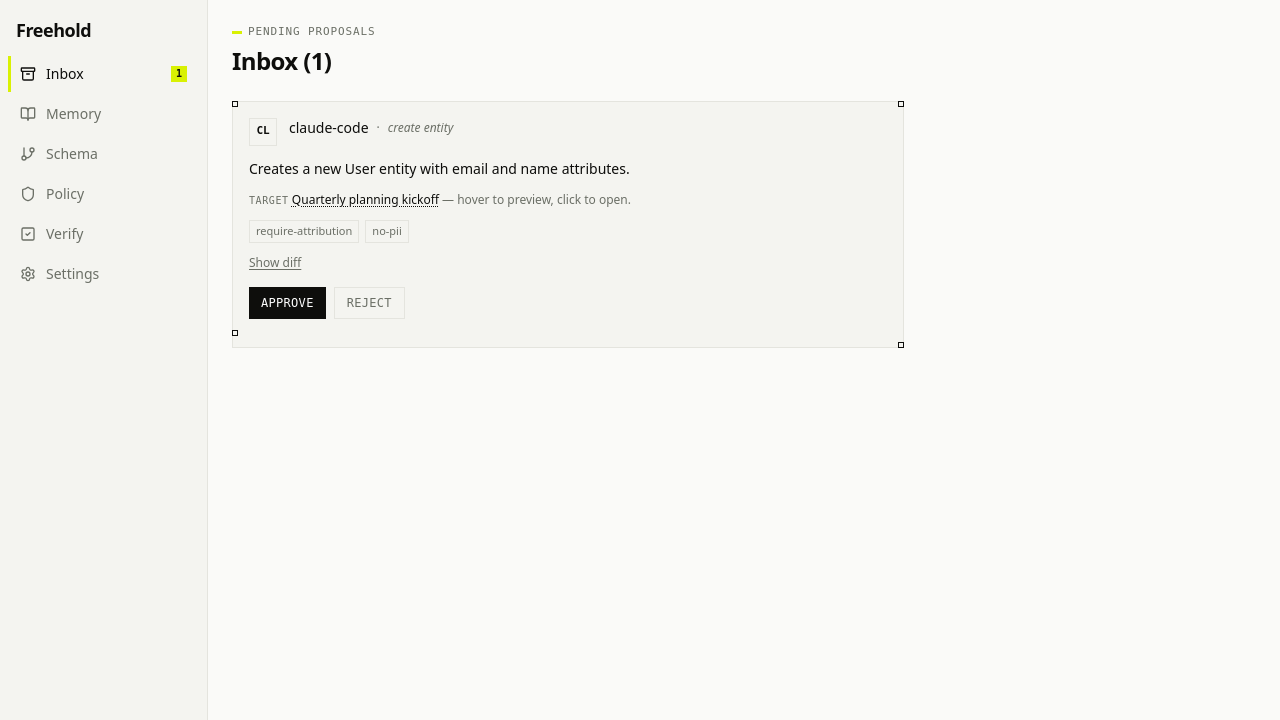
Test: Inbox › shows the target row and previews the node on hover
Hover over the element showing "Quarterly planning kickoff": coordinates (365, 200) [292,192,439,208]
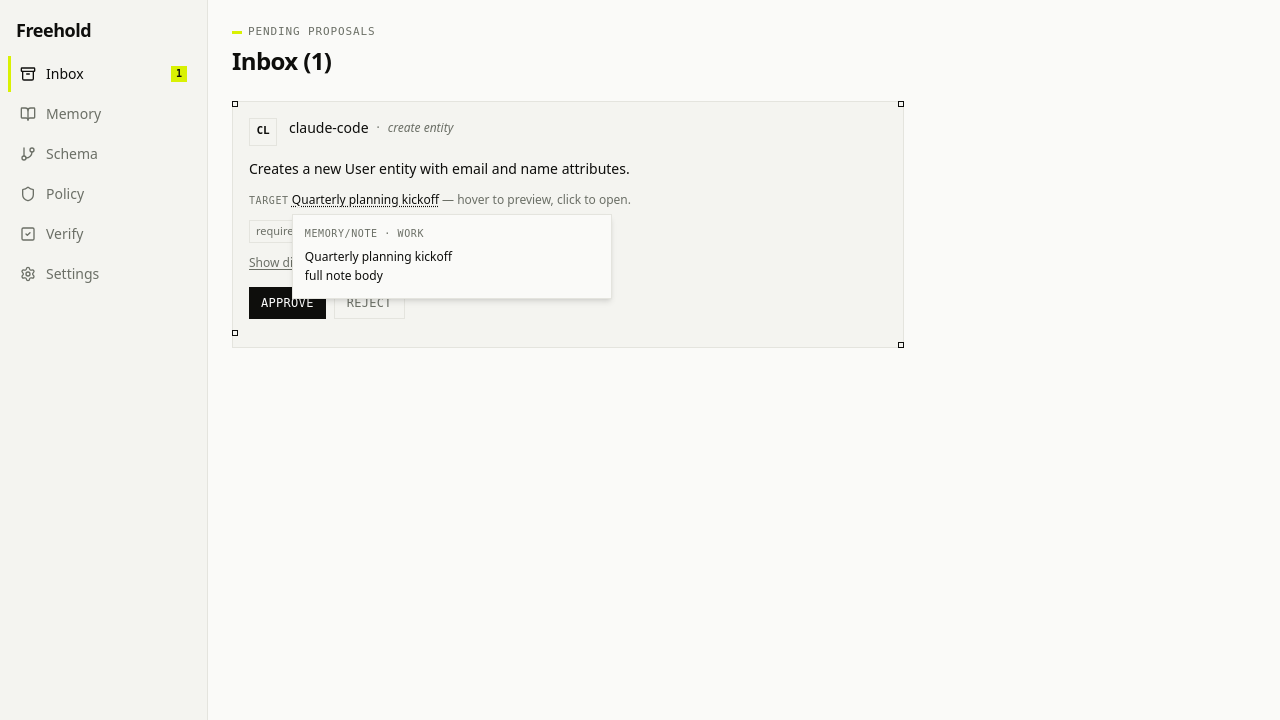
expect the element with test id "subject-preview" shows "memory/Note": met, box [305,228,378,239]
expect the element with test id "subject-preview" shows "full note body": met, box [305,248,452,284]
expect the element with test id "subject-preview" shows "work": met, box [378,228,424,239]
